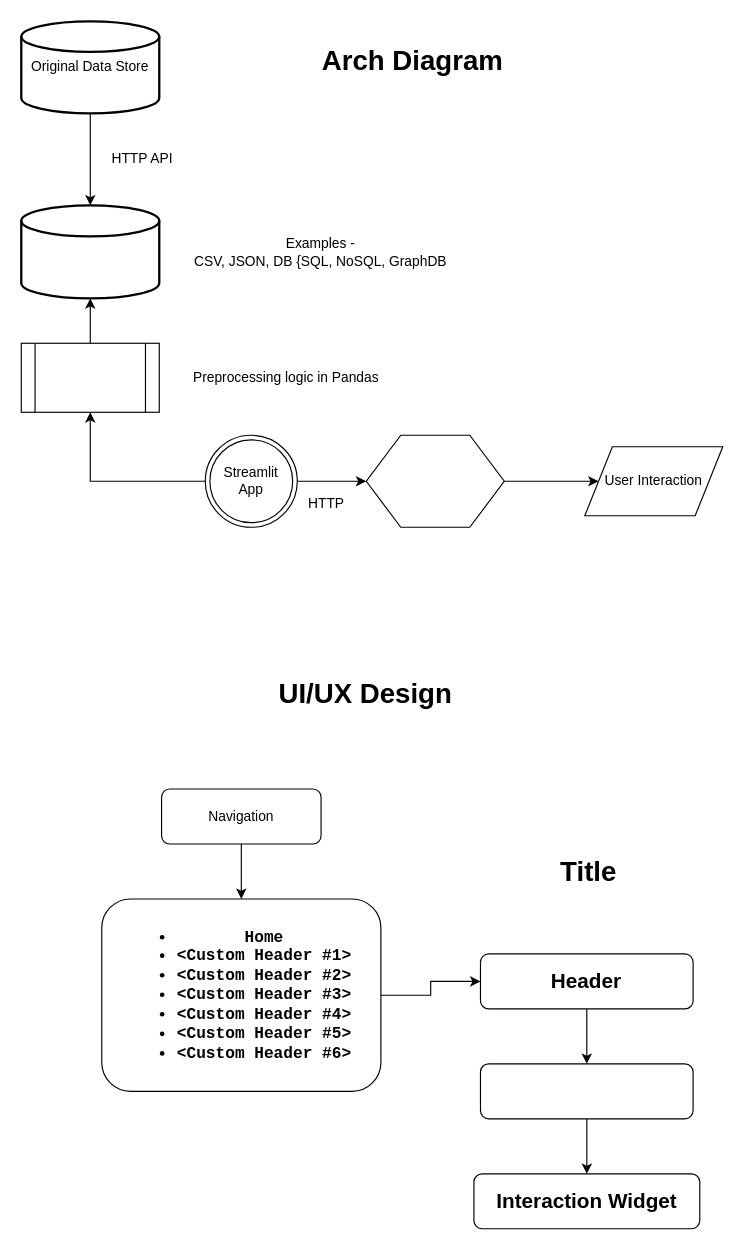
Image size: 743x1250. Some labels were removed from this diagram. Each missing label, with the centre of its shape:
Our Data Store: point 90,251
Plot: point 586,1091
Pre-processing: point 89,377
Web browser: point 434,480
